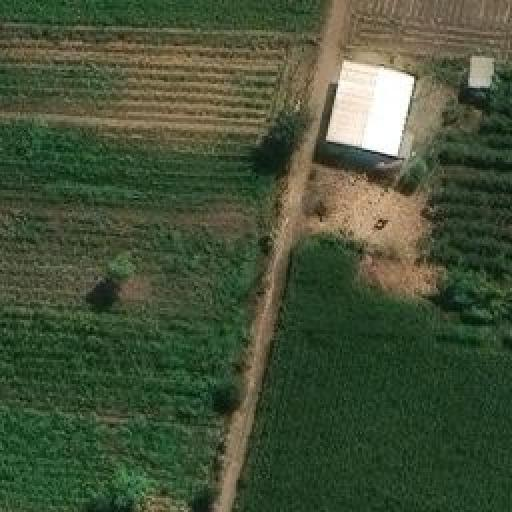manzanas: (295, 39, 501, 264)
